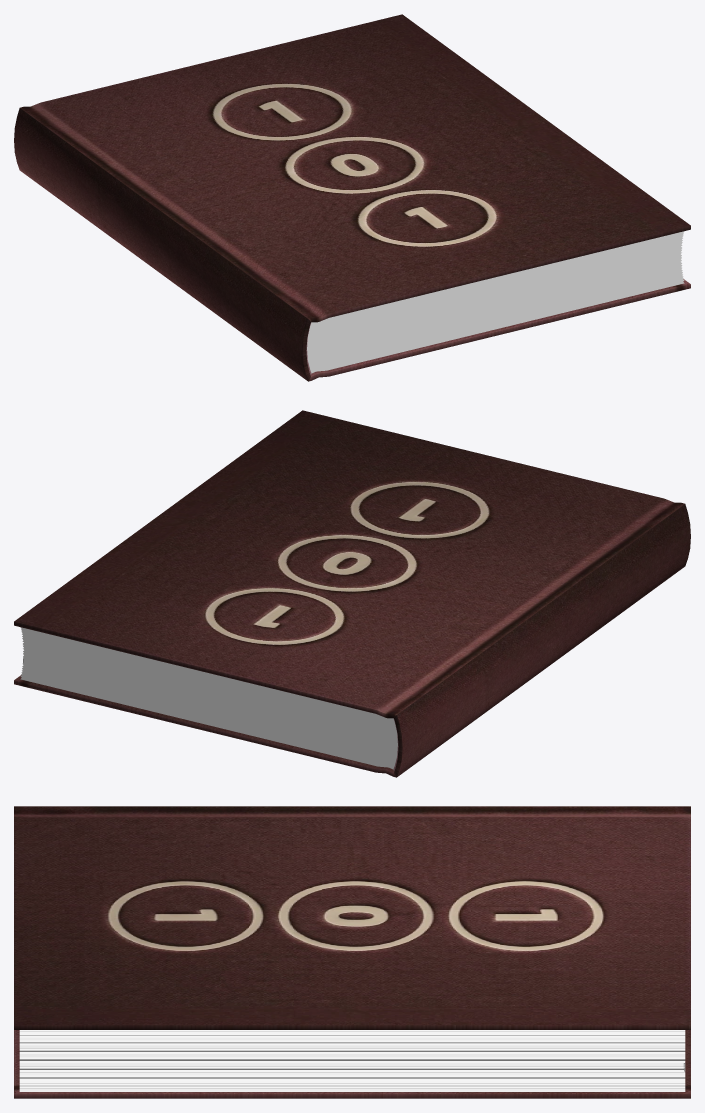
File: ClosedBook-Compressed.glb
The picture shows the model from 3 angles, top to bottom: view 1: azimuth 30°, elevation 25°; view 2: azimuth 150°, elevation 25°; view 3: azimuth 270°, elevation 25°; orthographic projection. The views are drawn at different scales.
Parts seen in each view (by area): view 1: Cube001, PageStack, Cube001_2, Cube001_1; view 2: Cube001, PageStack, Cube001_2, Cube001_1; view 3: Cube001, PageStack, Cube001_1.
Boxes of the visible parts, x1,y1,x2,y2 form: Cube001: (20, 14, 690, 322); PageStack: (307, 231, 684, 373); Cube001_2: (14, 108, 310, 381); Cube001_1: (308, 279, 690, 381); Cube001: (14, 410, 684, 718); PageStack: (20, 627, 397, 769); Cube001_2: (394, 504, 690, 777); Cube001_1: (14, 675, 396, 777); Cube001: (14, 806, 690, 1029); PageStack: (19, 1030, 685, 1091); Cube001_1: (14, 1030, 690, 1098).
Bounding box in the file's own units: 3.88 × 0.6001 × 4.99.
5 materials, 3 textured.
